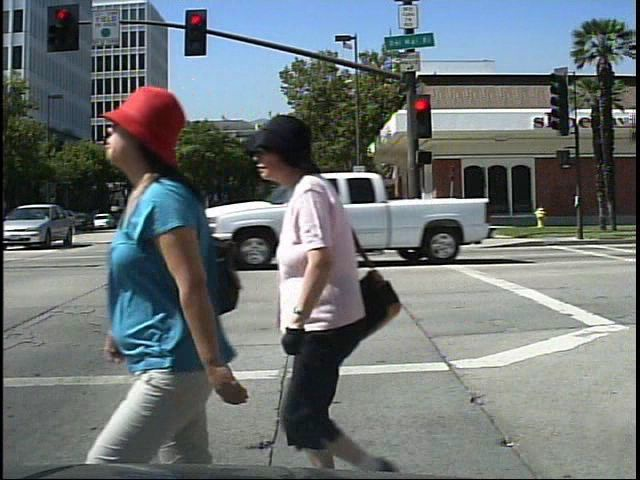person: (255, 113, 437, 477), (106, 69, 246, 468)
